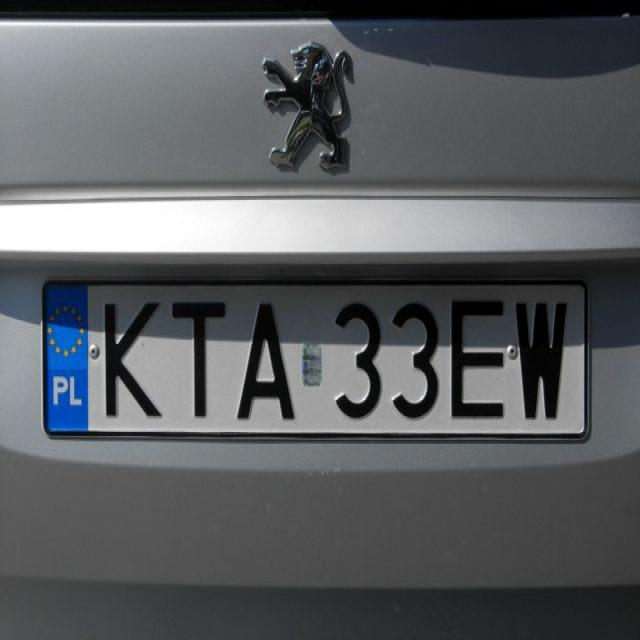pl_license_plate: (43, 283, 588, 436)
